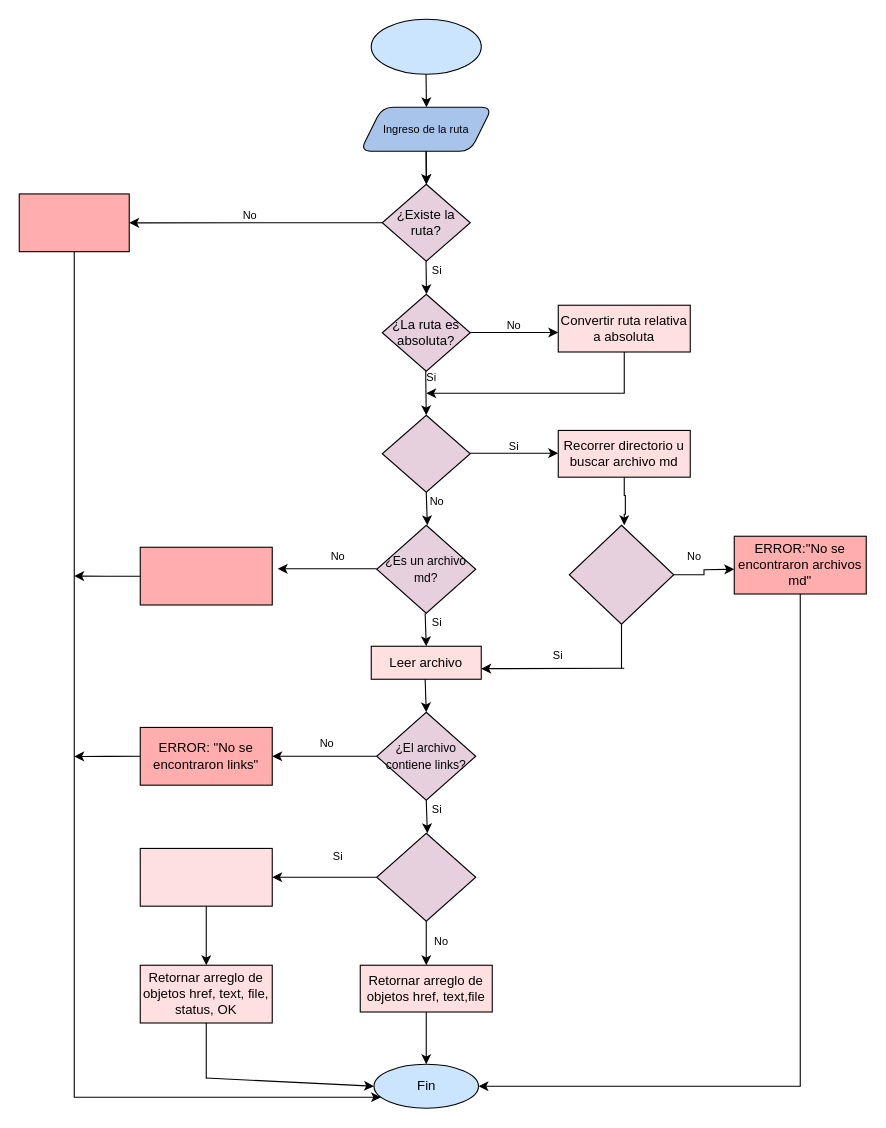
Some shapes in this 886 by 1128 pixel diagram are drawn without their labels. Here are the shapes that lost their labels. From the top down, the box of each, then its label:
(370, 18, 481, 74): Inicio
(18, 193, 129, 252): ERROR: "La ruta no existe"
(381, 414, 470, 492): ¿Es un directorio?
(139, 546, 272, 605): ERROR: "No se encontro archivo md"
(568, 524, 674, 624): ¿Tiene archivos md?
(139, 847, 272, 906): Validar links a través de peticiones HTTP
(376, 832, 476, 921): ¿Validate es TRUE?
